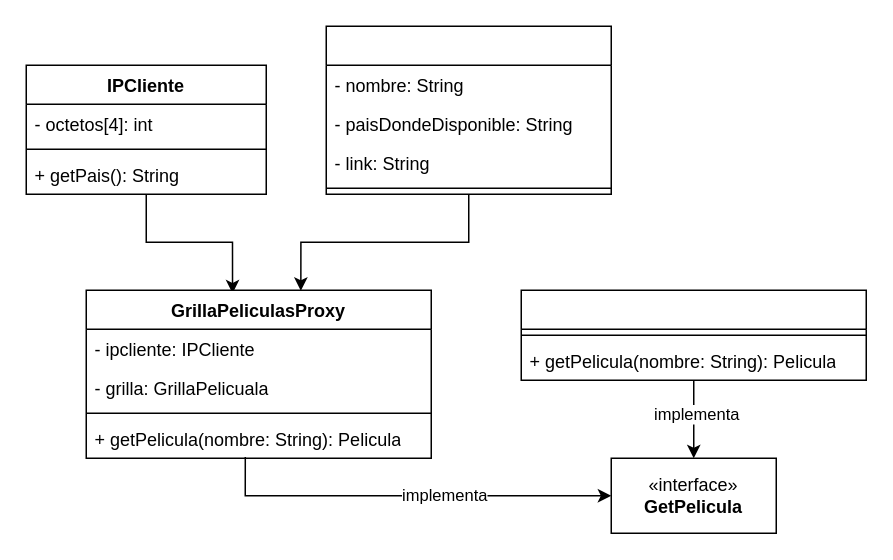
Some shapes in this 893 by 560 pixel diagram are drawn without their labels. Each missing label, with the box of its shape:
GrillaPeliculas: (520, 289, 866, 380)
Pelicula: (325, 25, 611, 194)
